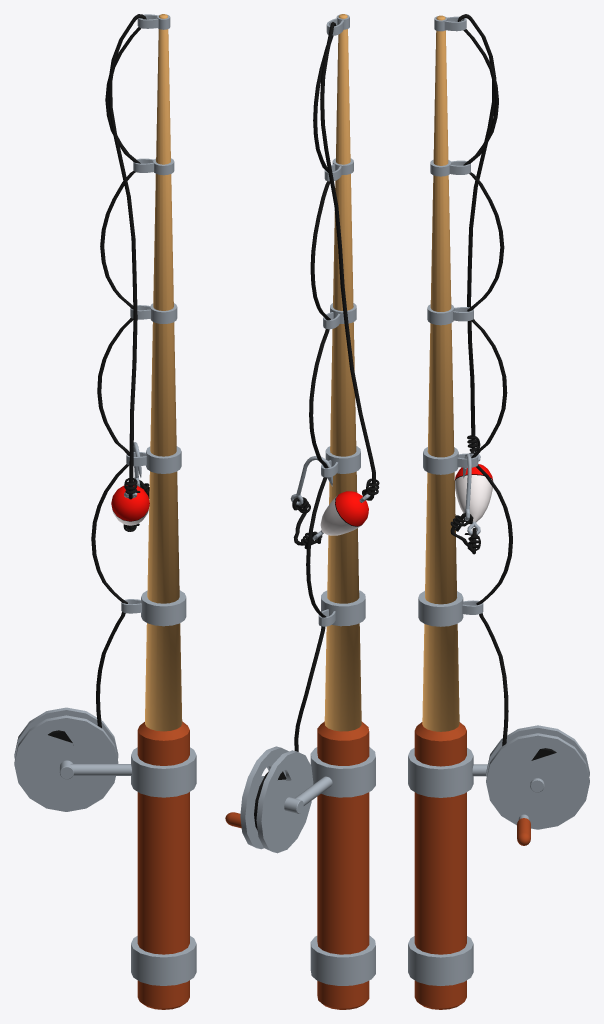
File: FishingRod.fbx
3 views of the same model, side by side, from view 1: azimuth 90°, elevation 25°; view 2: azimuth 150°, elevation 25°; view 3: azimuth 270°, elevation 25° (orthographic).
Parts seen in each view (by area): view 1: Цилиндр.001, Цилиндр, Цилиндр.011, Цилиндр.026, Цилиндр.003, Цилиндр.002, Цилиндр.004, Поплавок, Цилиндр.010, Цилиндр.009, Цилиндр.005, Цилиндр.023 (+4 smaller); view 2: Цилиндр.001, Цилиндр, Цилиндр.011, Цилиндр.002, Цилиндр.026, Цилиндр.003, Поплавок, Цилиндр.010, Цилиндр.004, Цилиндр.023, Цилиндр.022, Цилиндр.021 (+6 smaller); view 3: Цилиндр.001, Цилиндр, Цилиндр.010, Цилиндр.002, Цилиндр.003, Цилиндр.026, Поплавок, Цилиндр.004, Цилиндр.011, Цилиндр.005, Цилиндр.023, Цилиндр.021 (+4 smaller).
Part boxes in pixels (x1,y1,x2,y2): Цилиндр.001: (145,14,182,731); Цилиндр: (137,721,189,1009); Цилиндр.011: (14,715,118,811); Цилиндр.026: (108,14,146,483); Цилиндр.003: (131,747,196,797); Цилиндр.002: (131,936,196,985); Цилиндр.004: (141,590,186,626); Поплавок: (111,485,149,525); Цилиндр.010: (14,707,118,759); Цилиндр.009: (70,764,131,775); Цилиндр.005: (146,446,181,473); Цилиндр.023: (91,464,128,603); Цилиндр.001: (324,14,361,731); Цилиндр: (317,721,369,1009); Цилиндр.011: (256,750,313,853); Цилиндр.002: (310,935,375,985); Цилиндр.026: (320,22,375,483); Цилиндр.003: (310,747,375,797); Поплавок: (312,491,370,539); Цилиндр.010: (240,746,288,849); Цилиндр.004: (321,590,365,626); Цилиндр.023: (306,477,327,617); Цилиндр.022: (309,329,329,468); Цилиндр.021: (310,181,330,320); Цилиндр.001: (422,15,459,731); Цилиндр: (414,722,466,1009); Цилиндр.010: (486,733,589,829); Цилиндр.002: (408,936,473,985); Цилиндр.003: (408,748,473,797); Цилиндр.026: (457,14,496,440); Поплавок: (455,451,493,535); Цилиндр.004: (418,591,463,626); Цилиндр.011: (486,725,589,776); Цилиндр.005: (423,447,458,474); Цилиндр.023: (476,465,512,605); Цилиндр.021: (467,172,504,311).
Size of the model in its own units: 88.71 by 660 by 110.
